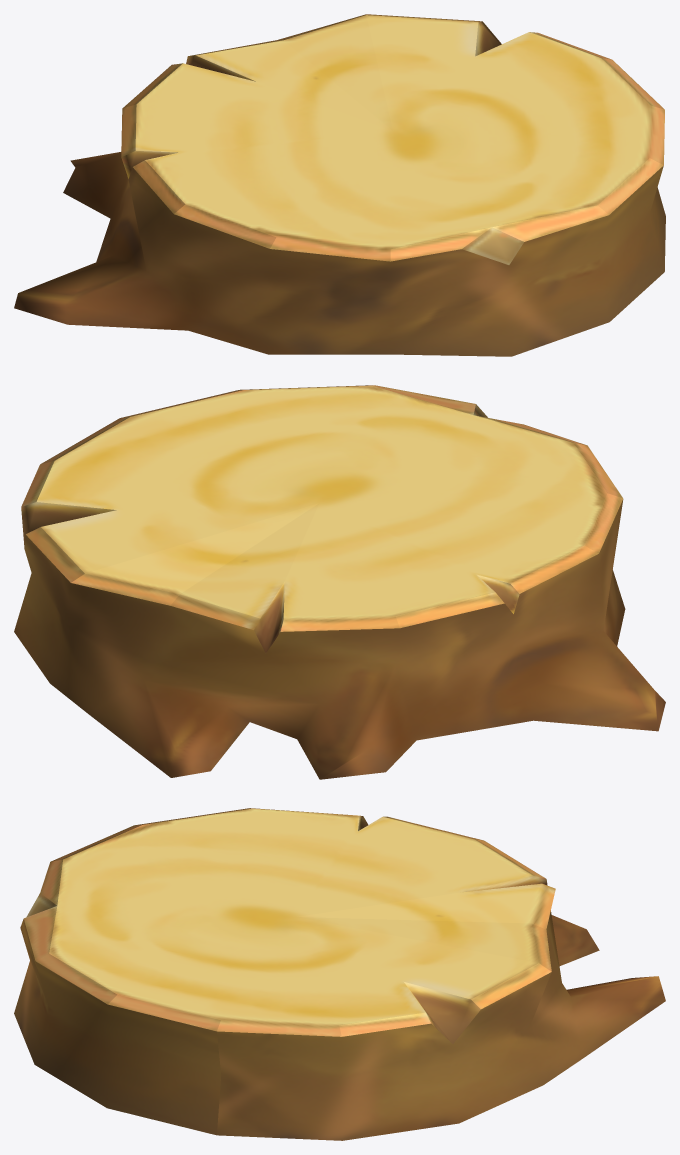
The model's file is log.fbx.
3 views of the same model, one above another, from view 1: azimuth 30°, elevation 25°; view 2: azimuth 150°, elevation 25°; view 3: azimuth 270°, elevation 25° (orthographic). The views are drawn at different scales.
Visible parts, largest first — view 1: log; view 2: log; view 3: log.
Part boxes in pixels (left/top/right/bottom): log: left=14, top=14, right=665, bottom=356; log: left=14, top=385, right=665, bottom=779; log: left=14, top=808, right=665, bottom=1140.
Size of the model in its own units: 52.58 by 9.58 by 51.42.
